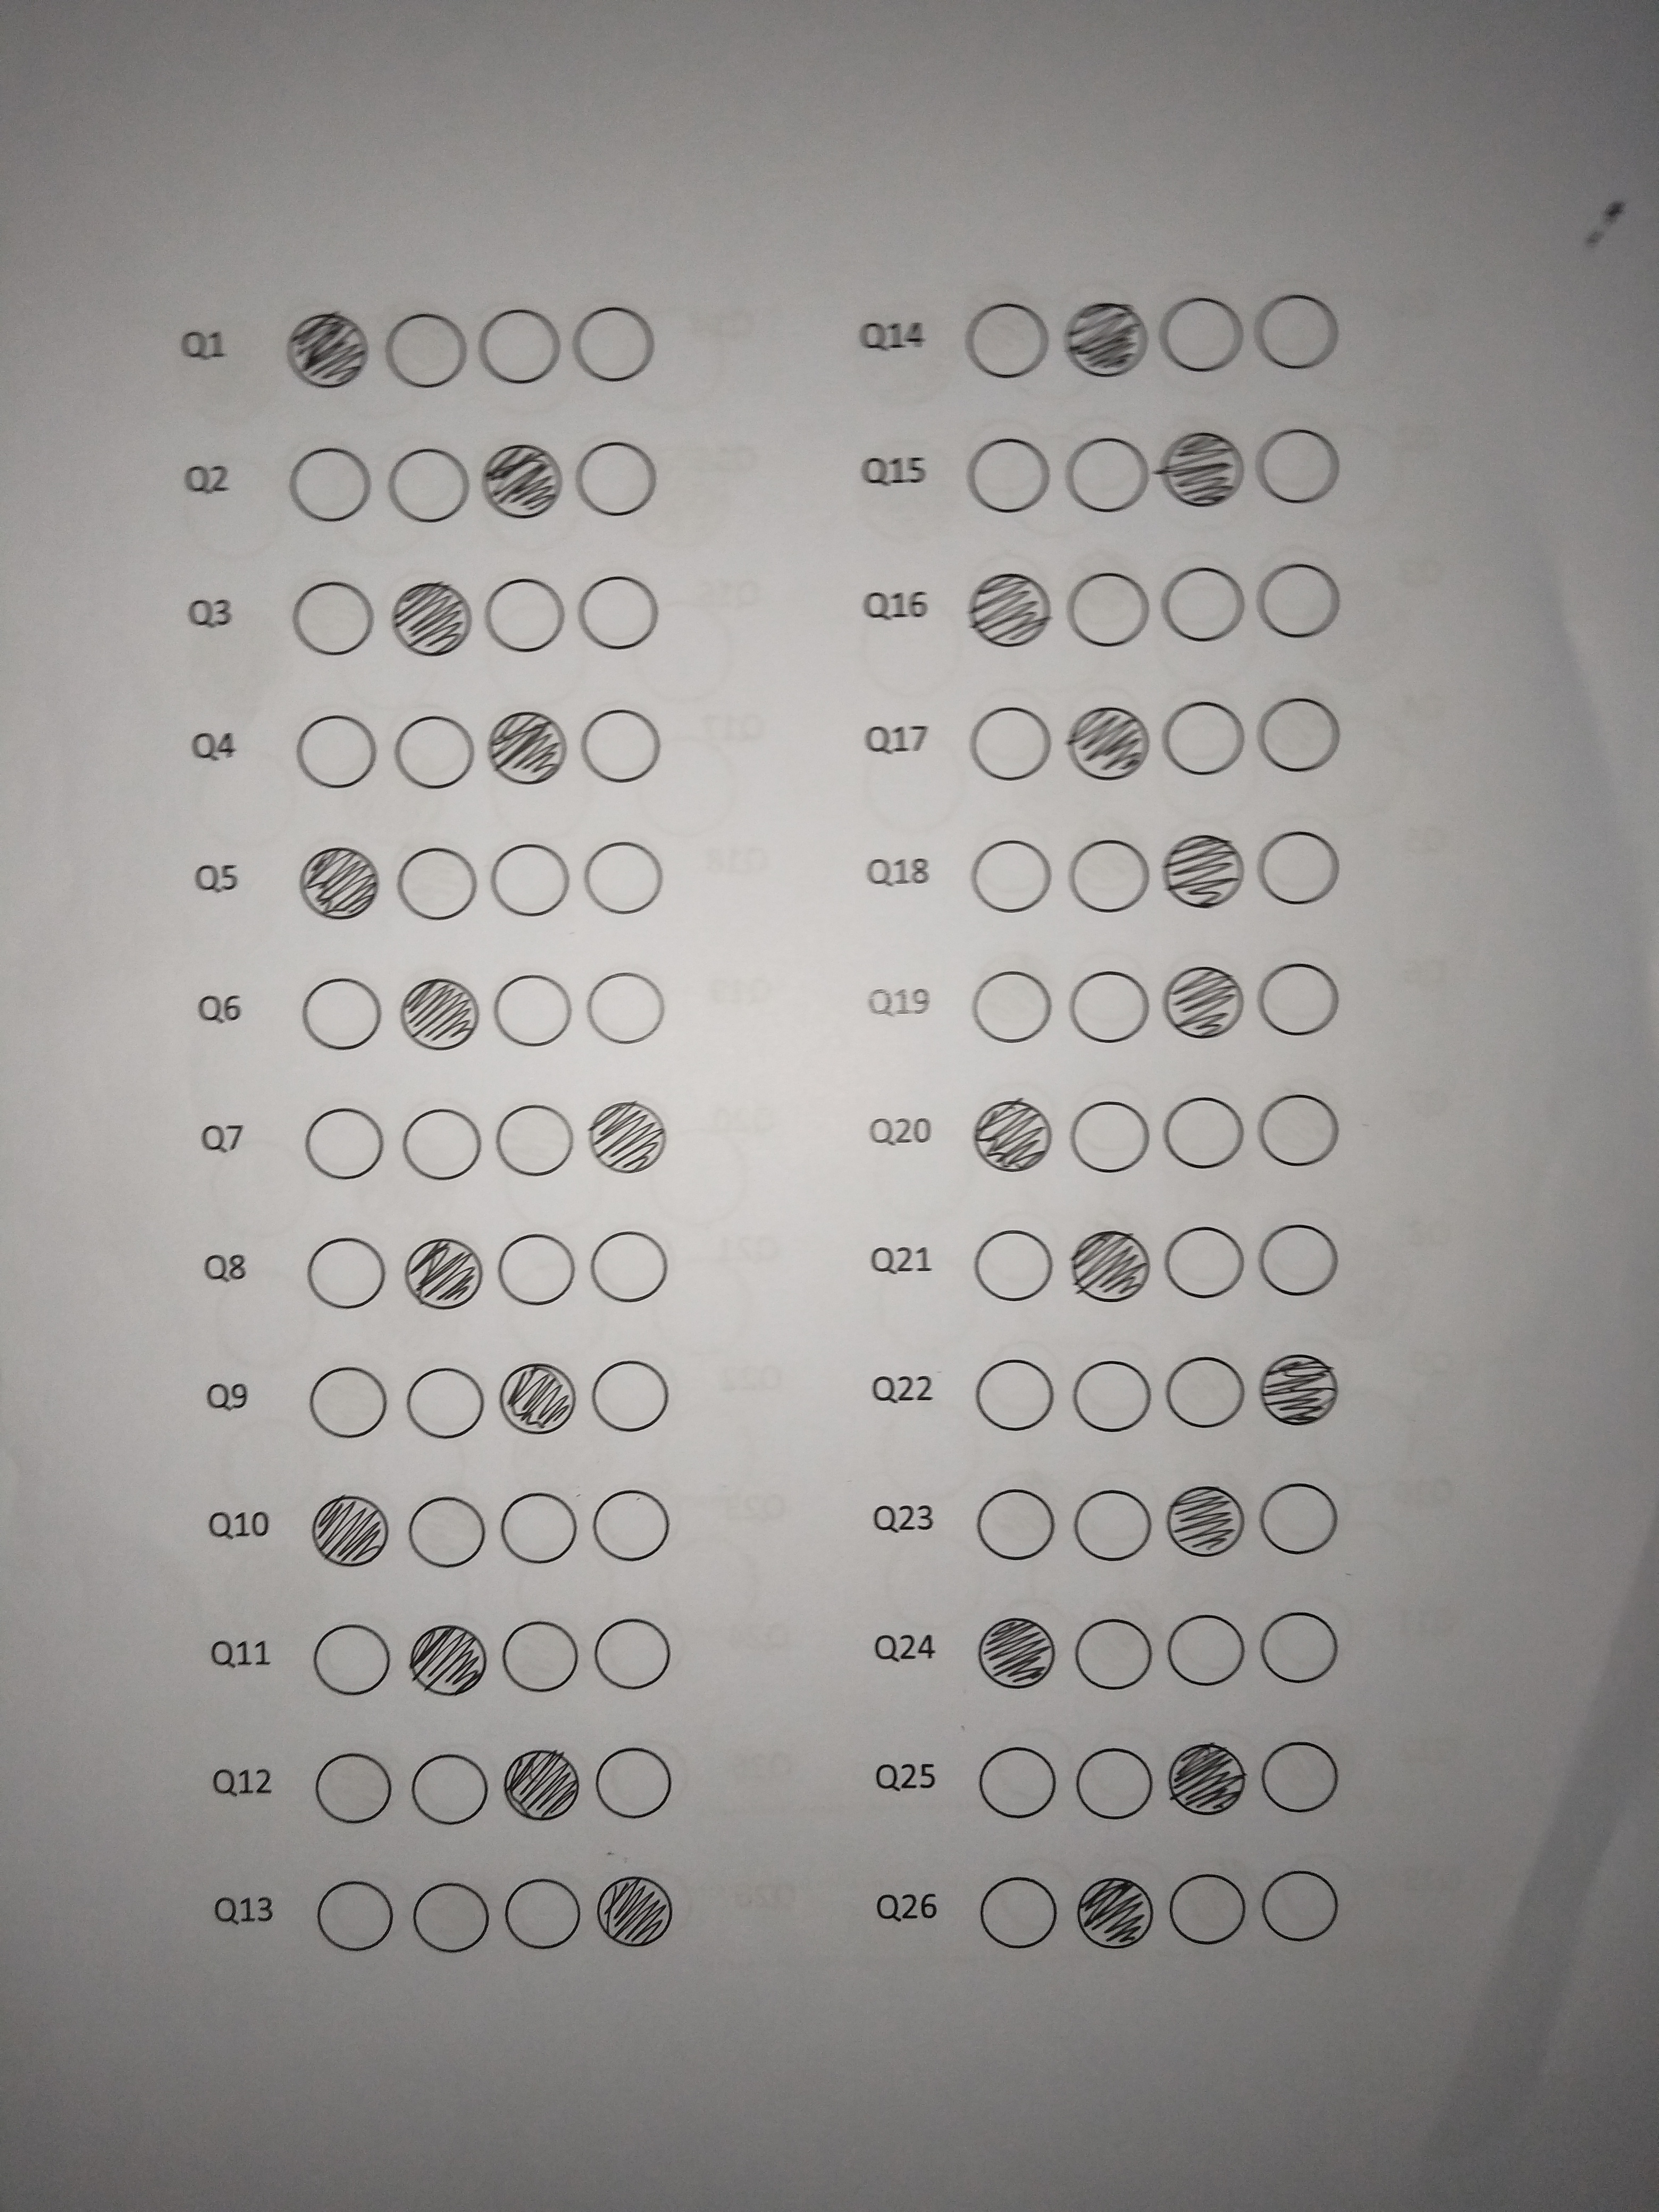not-c: (279, 1101, 399, 1197), (286, 963, 387, 1069), (300, 1865, 403, 1968), (951, 697, 1060, 794), (1253, 552, 1349, 662), (1246, 683, 1347, 786), (1249, 286, 1349, 387), (967, 1865, 1066, 1966), (951, 826, 1054, 923), (958, 1348, 1065, 1442), (575, 697, 669, 799), (293, 1618, 401, 1707), (303, 1735, 401, 1832), (1256, 1602, 1354, 1700), (1061, 831, 1155, 932), (289, 1359, 392, 1451), (582, 1350, 680, 1446), (380, 435, 474, 535), (288, 571, 382, 671), (584, 1609, 683, 1703), (281, 704, 382, 796), (286, 1228, 389, 1318), (1070, 1348, 1161, 1451), (570, 303, 667, 397), (1253, 949, 1351, 1043), (382, 704, 481, 796), (960, 427, 1054, 523), (958, 294, 1056, 387), (406, 1869, 497, 1968), (1164, 1345, 1249, 1449), (577, 566, 669, 662), (1060, 430, 1155, 523), (1056, 563, 1152, 655), (1159, 557, 1251, 653), (1255, 1728, 1351, 1820), (579, 963, 676, 1054), (967, 1735, 1065, 1825), (1255, 826, 1354, 914), (378, 305, 471, 399), (587, 1221, 681, 1313), (403, 1742, 495, 1836), (1253, 421, 1345, 516), (962, 963, 1056, 1055), (397, 1355, 488, 1451), (491, 1609, 582, 1705), (1066, 1482, 1157, 1578), (587, 1480, 676, 1578), (476, 305, 566, 399), (477, 570, 572, 660), (281, 442, 376, 531), (1155, 695, 1244, 791), (965, 1482, 1061, 1571), (486, 963, 577, 1055), (1157, 289, 1248, 381), (399, 1489, 493, 1578), (1161, 1219, 1249, 1312), (392, 840, 483, 928), (589, 1740, 678, 1831), (965, 1219, 1056, 1308), (1166, 1862, 1253, 1954), (495, 1228, 582, 1318), (1161, 1090, 1248, 1181), (579, 838, 673, 921), (495, 1090, 575, 1188), (1255, 1087, 1344, 1174), (401, 1103, 488, 1190), (1072, 1738, 1159, 1825), (1256, 1219, 1345, 1305), (1162, 1609, 1251, 1695), (491, 831, 573, 923), (498, 1489, 586, 1575), (1066, 1611, 1154, 1696), (1063, 965, 1154, 1047), (504, 1867, 582, 1961), (1061, 1097, 1154, 1176), (1256, 1864, 1342, 1947), (1256, 1477, 1337, 1561), (575, 441, 657, 519)
taken-c: (1061, 296, 1154, 381), (1159, 831, 1248, 913), (1161, 960, 1248, 1042), (1256, 1346, 1342, 1428), (1161, 428, 1246, 510), (481, 442, 568, 523), (965, 570, 1053, 650), (288, 312, 371, 394), (390, 575, 474, 657), (295, 843, 380, 923), (486, 705, 568, 787), (1066, 704, 1150, 784), (974, 1615, 1056, 1695), (399, 974, 483, 1052), (594, 1871, 678, 1949), (1068, 1226, 1152, 1305), (1162, 1482, 1248, 1559), (404, 1233, 484, 1313), (502, 1743, 582, 1824), (587, 1097, 669, 1176), (1168, 1738, 1249, 1817), (972, 1097, 1056, 1174), (310, 1491, 390, 1569), (498, 1360, 579, 1437), (1077, 1876, 1159, 1951), (410, 1622, 488, 1696)
